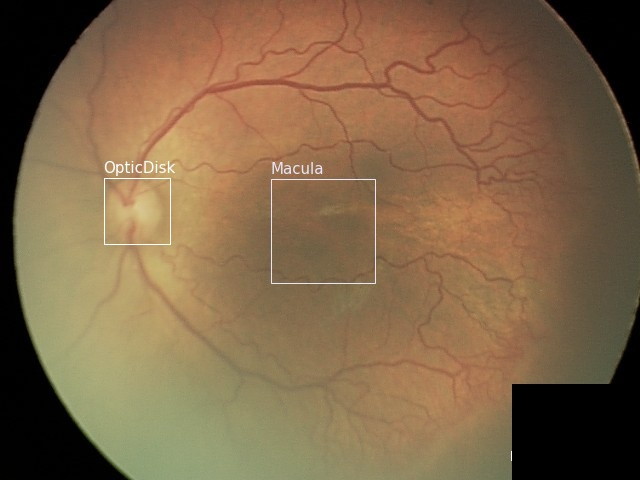Macula: (270, 178, 374, 282)
OpticDisk: (103, 177, 169, 243)
